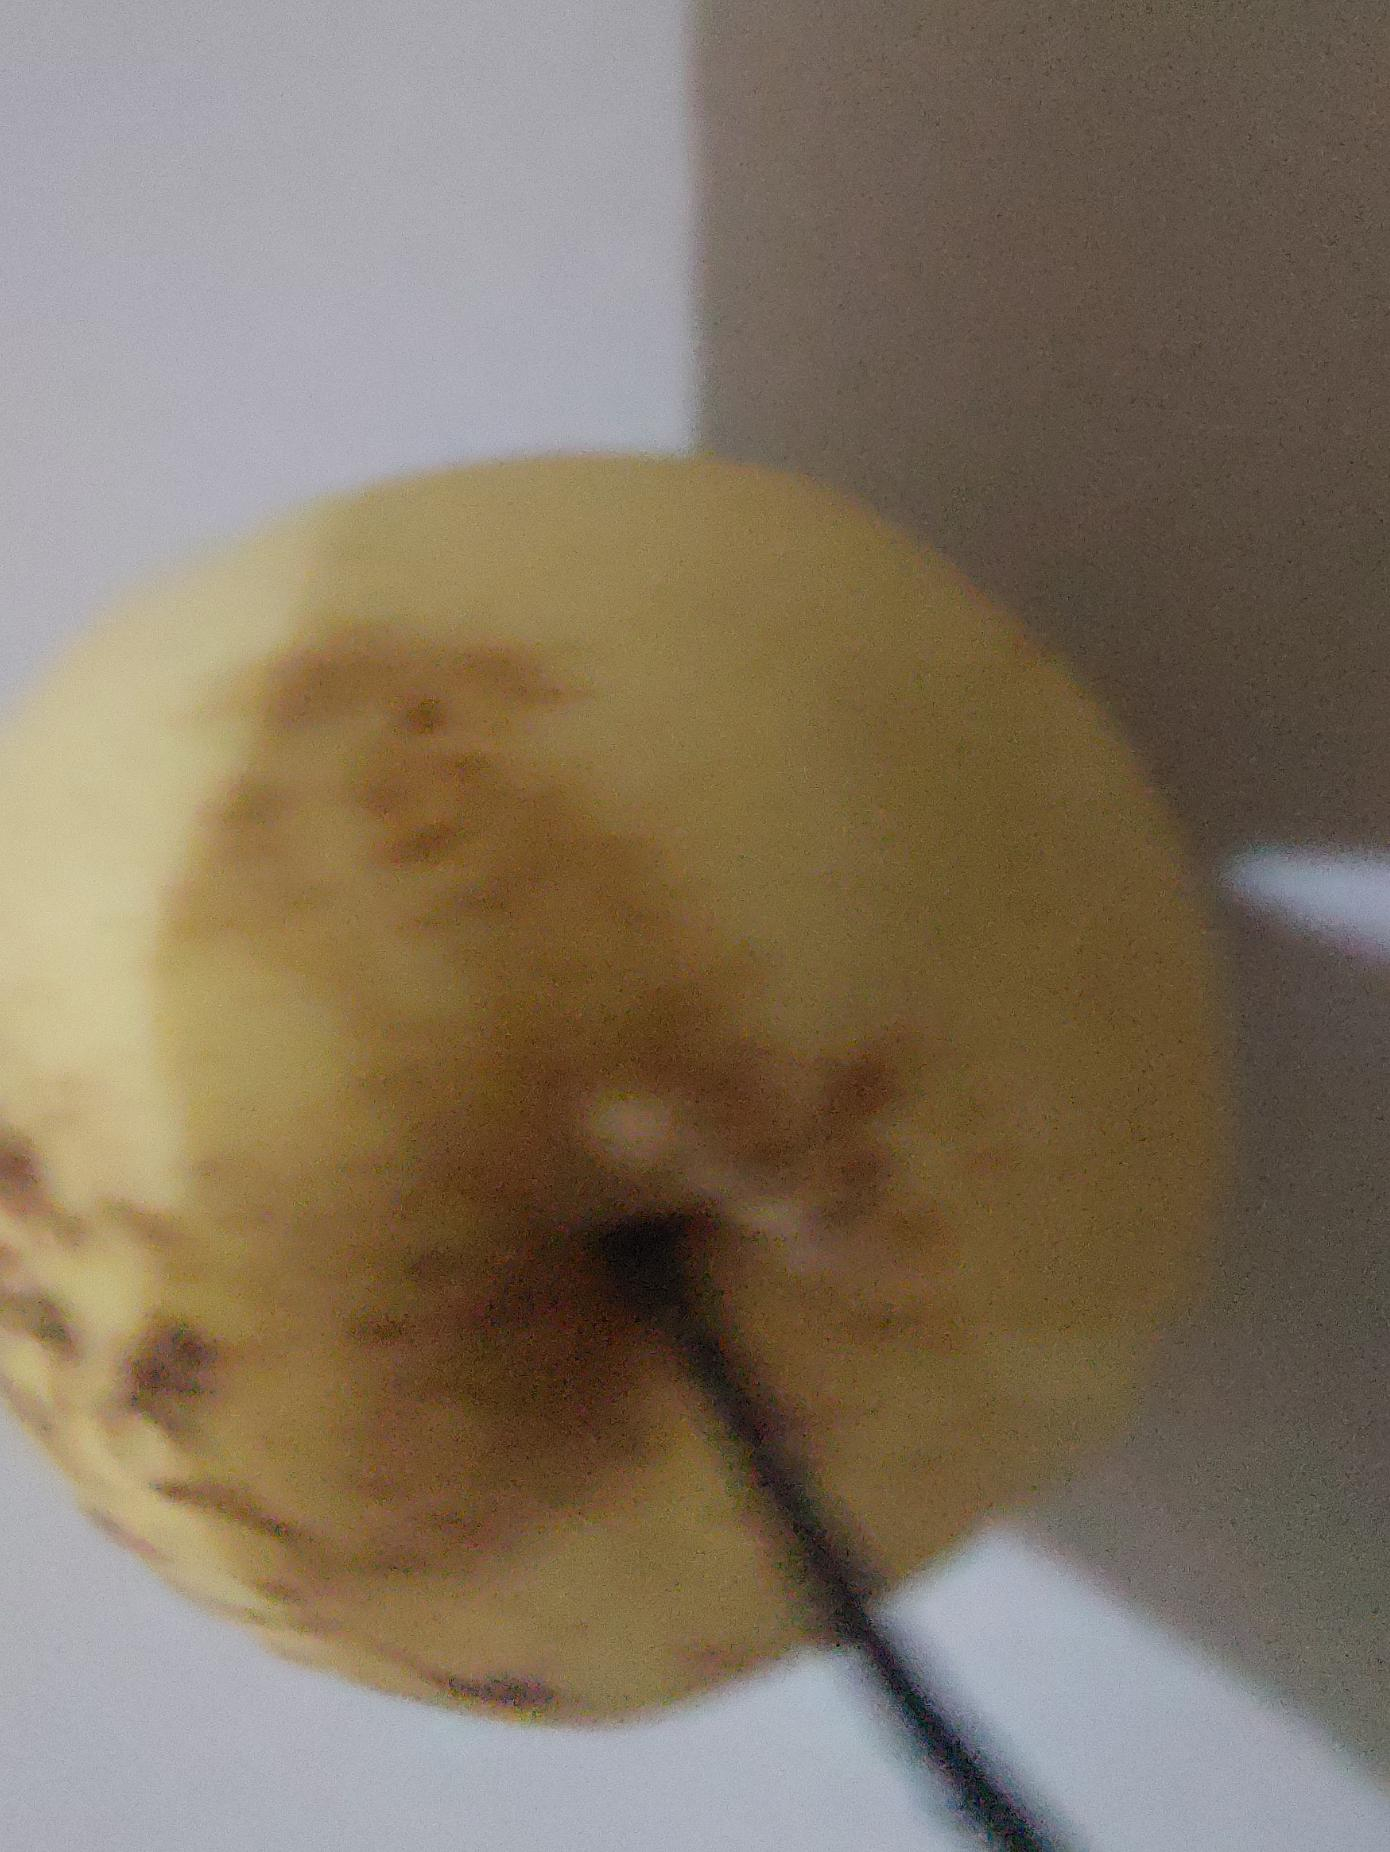Bad Pear: (0, 433, 1244, 1756)
